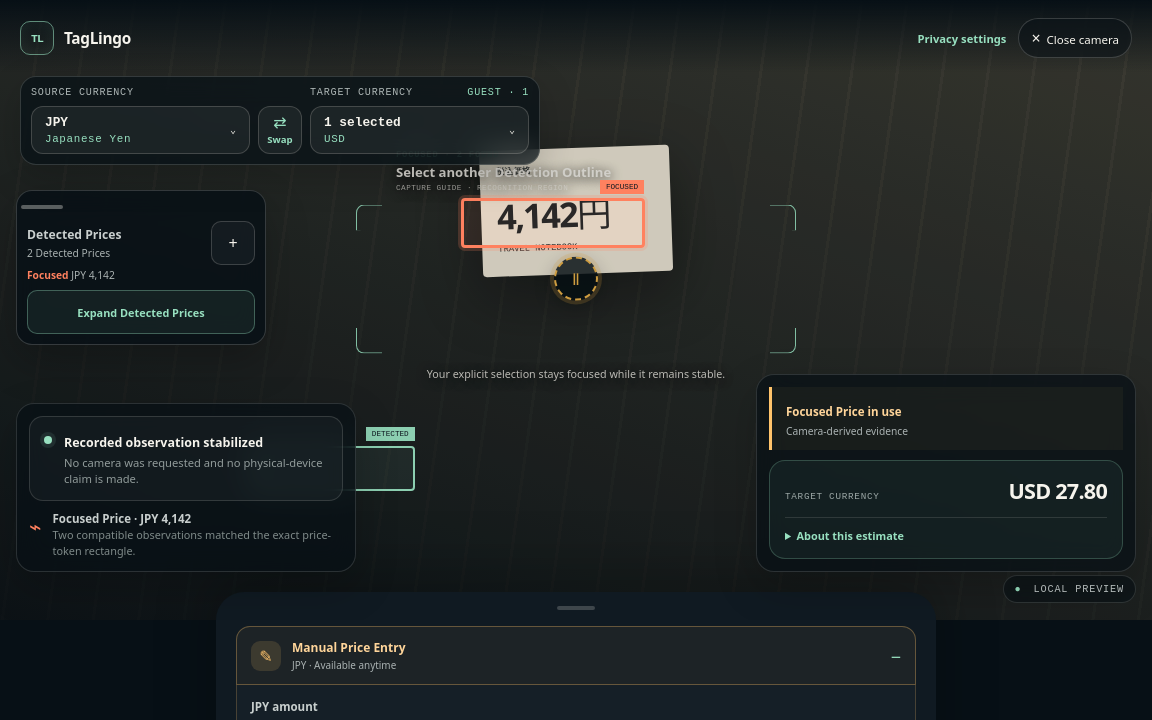
Camera Workspace boundary › discloses secondary Reference Rate details without displacing the Focused Price conversion
Expected: the text "USD 27.80" is shown, [1008,476,1107,505]
Expected: the text "1 JPY = 0.0067123 USD" is not shown
Click the heading "About this estimate": (850, 536) [796,528,904,543]
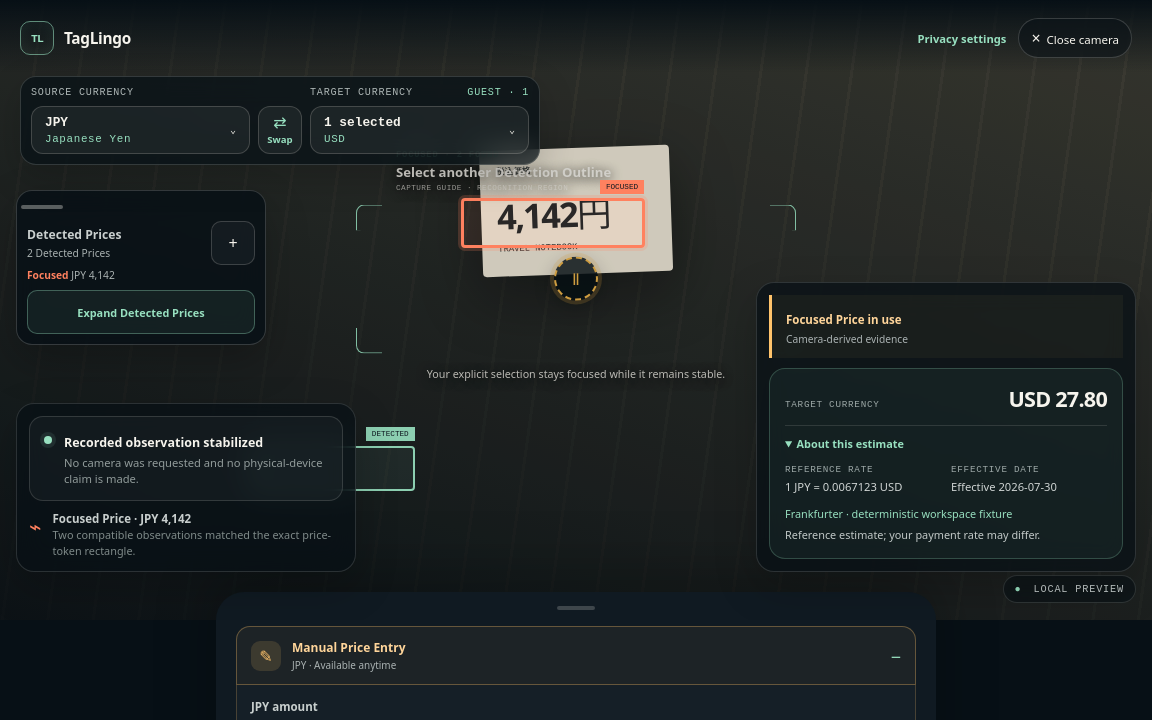
Now the text "1 JPY = 0.0067123 USD" is shown, box [785,480,902,494]
